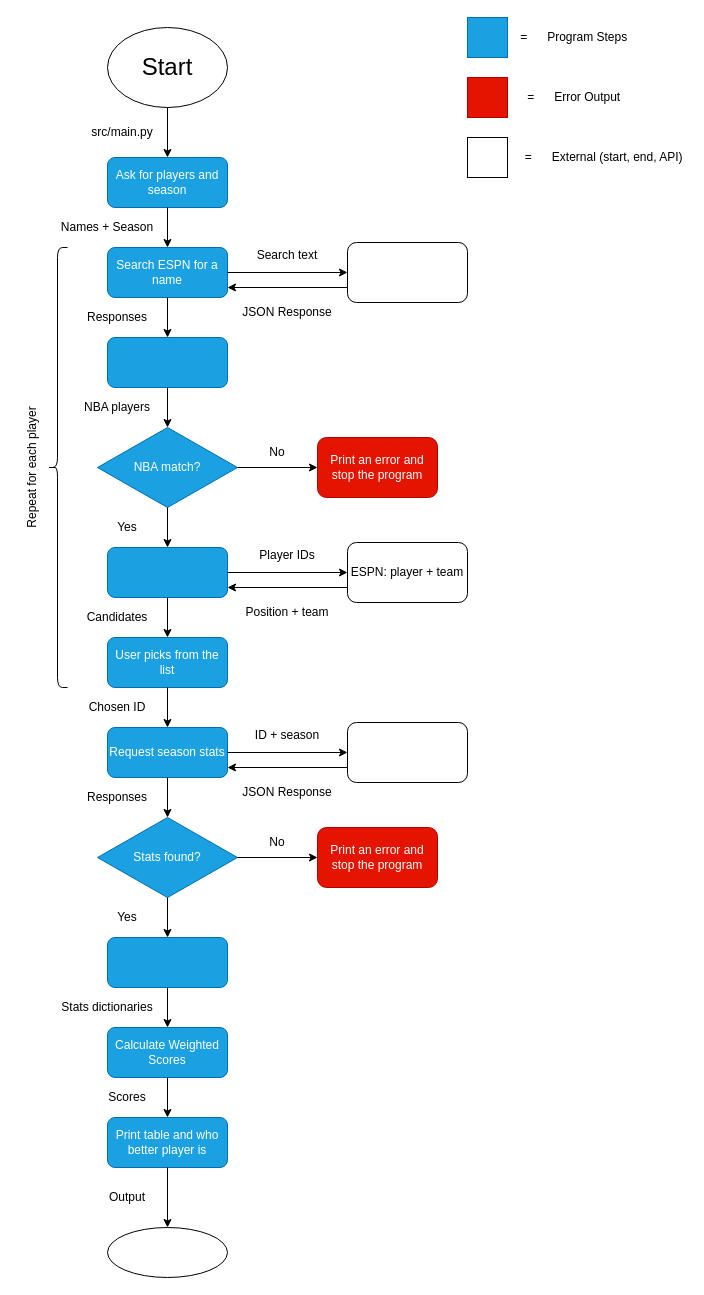
This 704x1295 diagram has some shape labels left out. Each missing label, with the centre of its shape:
"End" belongs at (167,1252).
"ESPN: search" belongs at (407,272).
"ESPN: season stats" belongs at (407,752).
"Get position and team" belongs at (167,572).
"Keep NBA players only" belongs at (167,362).
"Parse JSON Stats" belongs at (167,962).
